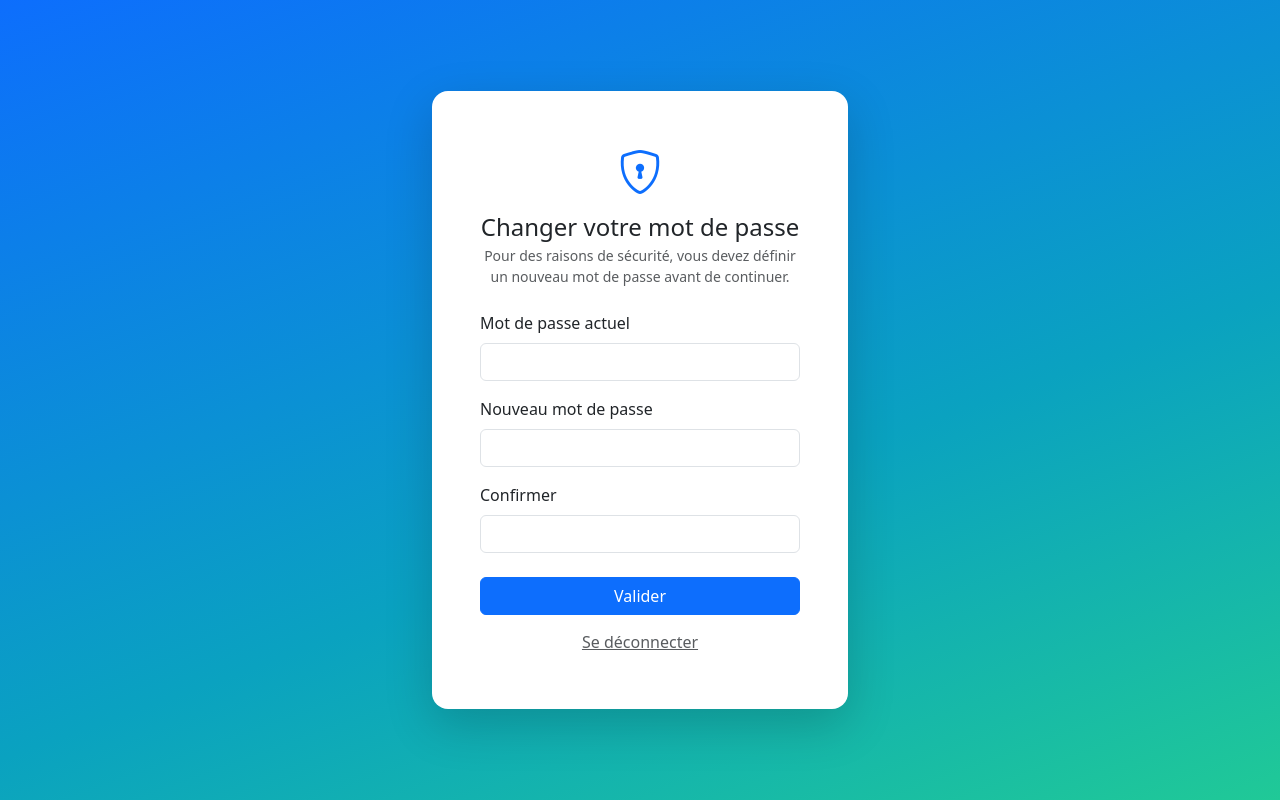
it: ForcePasswordChange › affiche l’erreur serveur si le mot de passe actuel est faux
Type "wrong" into the password field named "current".
click(640, 362); type("wrong")  # box [480, 343, 800, 381]
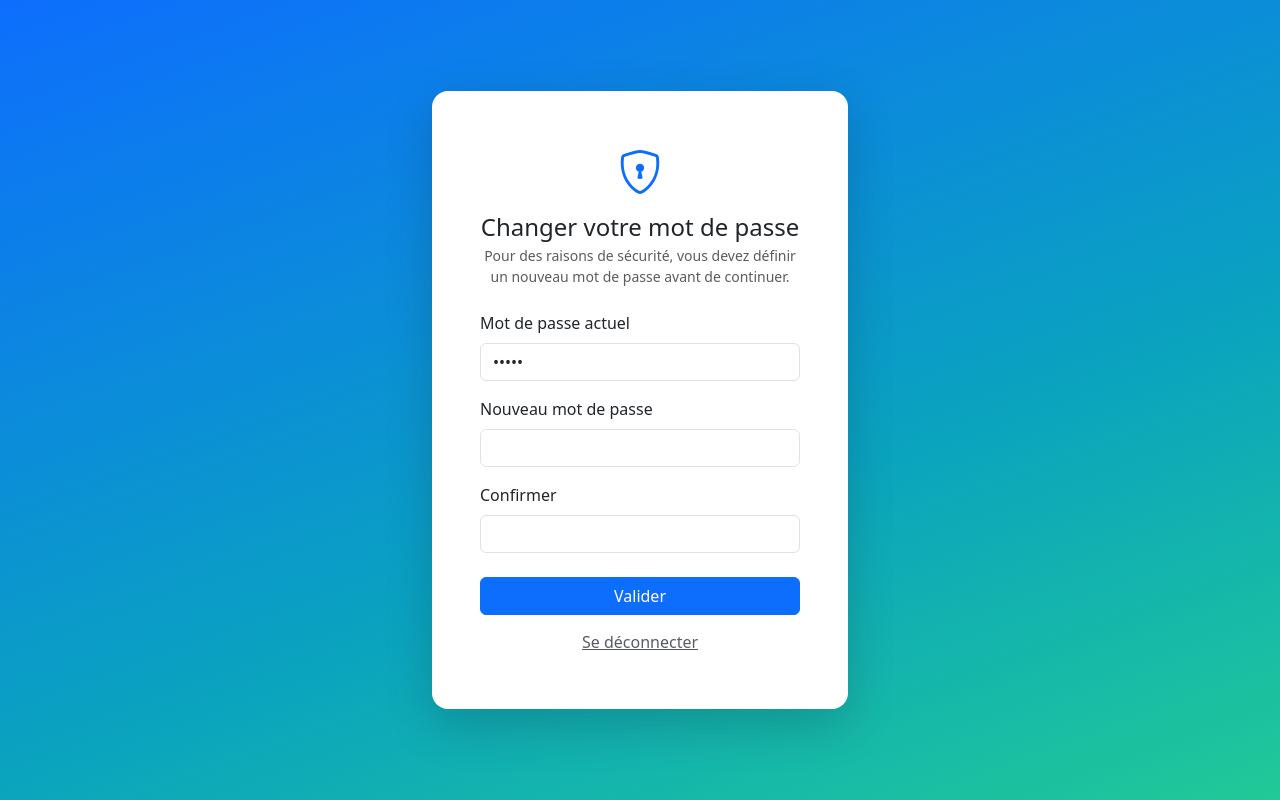
Type "newpassword" into the password field named "next".
click(640, 448); type("newpassword")  # box [480, 429, 800, 467]
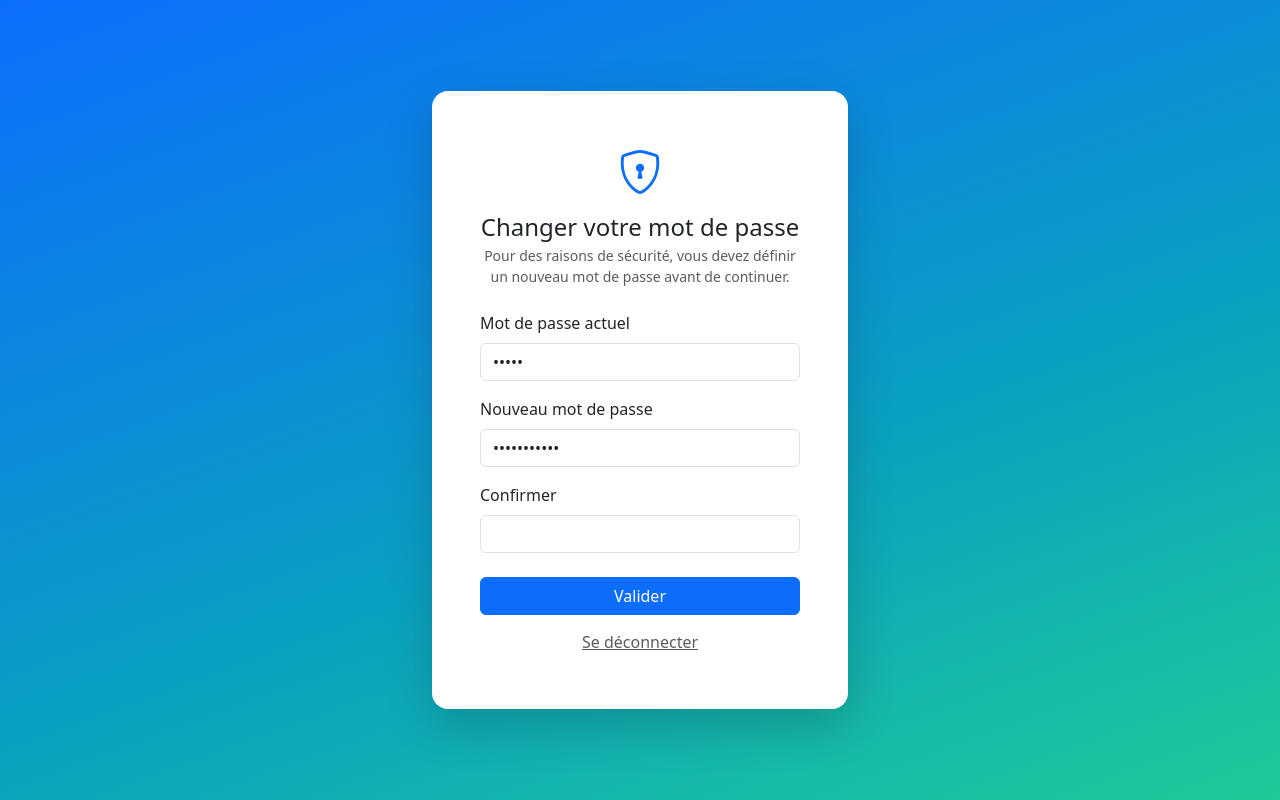
Type "newpassword" into the password field named "confirm".
click(640, 534); type("newpassword")  # box [480, 515, 800, 553]
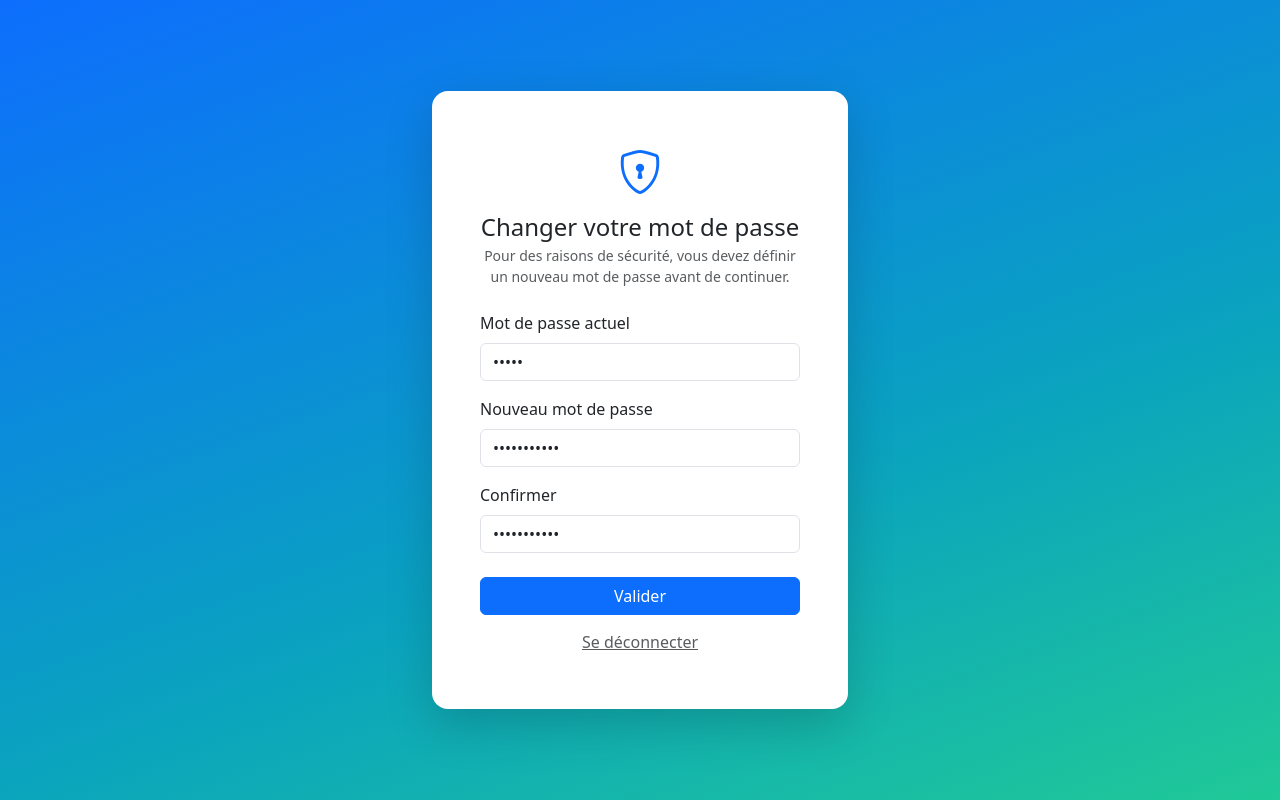
Submit the form, box [480, 311, 800, 661]
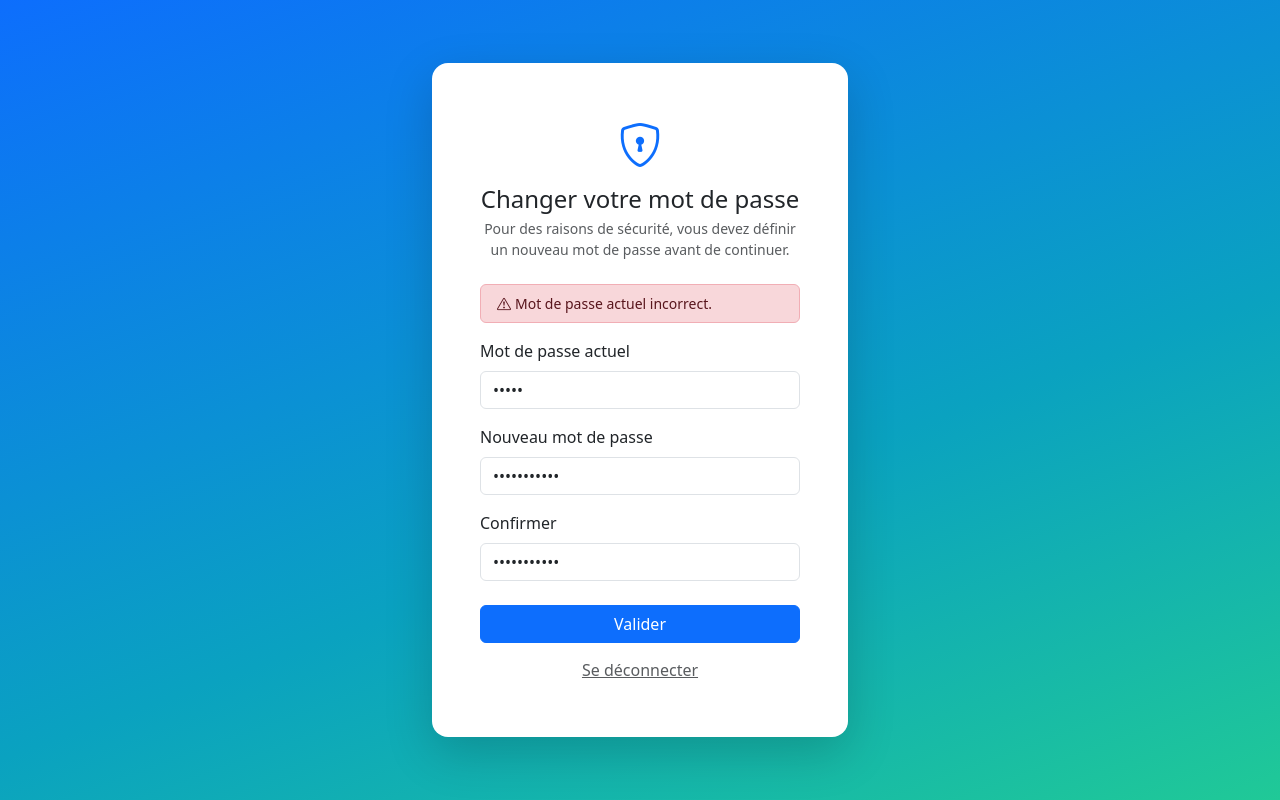
Now the text "Mot de passe actuel incorrect." is shown, box [480, 284, 800, 323]
